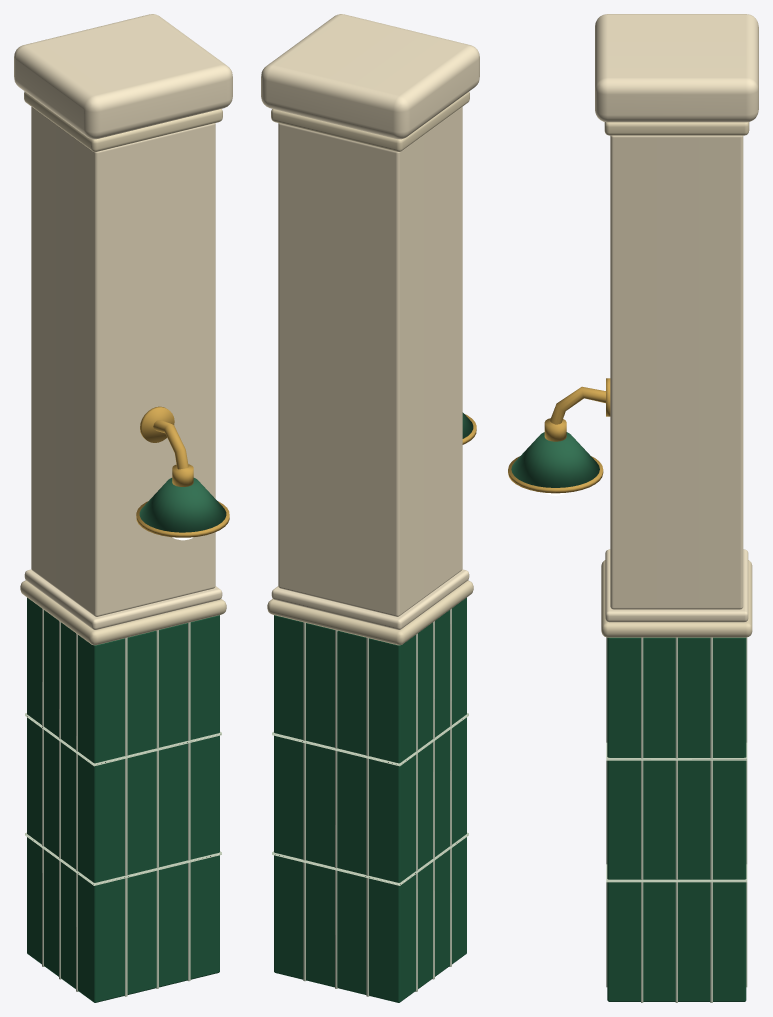
The model's file is shop_column.glb.
3 renders of one model, left to right at view 1: azimuth 30°, elevation 25°; view 2: azimuth 150°, elevation 25°; view 3: azimuth 270°, elevation 25°, orthographic.
Parts seen in each view (by area): view 1: Shaft, BaseTile, TopCap, CapLower, Shade, CapUpper, TopNeck, GroutY-11, GroutY-13, GroutY-12, SconcePlate, ShadeRim (+6 smaller); view 2: Shaft, BaseTile, TopCap, CapLower, CapUpper, TopNeck, GroutY11, GroutY13, GroutY12, GroutX-12, GroutX-11, GroutX-13 (+2 smaller); view 3: Shaft, BaseTile, TopCap, Shade, CapLower, CapUpper, TopNeck, GroutX13, GroutX11, GroutX12, SconceArm, ShadeRim (+3 smaller).
Part boxes in pixels (x1,y1,x2,y2): Shaft: [31, 107, 215, 616]; BaseTile: [27, 597, 219, 1002]; TopCap: [14, 14, 232, 139]; CapLower: [20, 580, 226, 645]; Shade: [139, 478, 226, 532]; CapUpper: [24, 569, 222, 629]; TopNeck: [24, 91, 222, 151]; GroutY-11: [124, 637, 127, 996]; GroutY-13: [187, 622, 190, 981]; GroutY-12: [156, 630, 158, 988]; SconcePlate: [140, 406, 174, 442]; ShadeRim: [136, 501, 229, 537]; Shaft: [278, 107, 462, 616]; BaseTile: [274, 597, 466, 1002]; TopCap: [261, 14, 479, 139]; CapLower: [267, 580, 473, 645]; CapUpper: [271, 569, 469, 629]; TopNeck: [271, 91, 469, 151]; GroutY11: [366, 637, 369, 996]; GroutY13: [303, 622, 306, 981]; GroutY12: [335, 630, 337, 988]; GroutX-12: [432, 621, 434, 979]; GroutX-11: [449, 608, 451, 966]; GroutX-13: [415, 633, 417, 991]; Shaft: [610, 135, 743, 609]; BaseTile: [607, 637, 746, 1001]; TopCap: [595, 14, 758, 122]; Shade: [511, 432, 599, 487]; CapLower: [601, 560, 752, 637]; CapUpper: [605, 549, 748, 622]; TopNeck: [604, 122, 749, 135]; GroutX13: [710, 637, 712, 1002]; GroutX11: [641, 637, 643, 1002]; GroutX12: [675, 637, 677, 1002]; SconceArm: [550, 386, 605, 424]; ShadeRim: [508, 456, 603, 493].
Size of the model in its own units: 0.54 by 3.17 by 0.7799.
